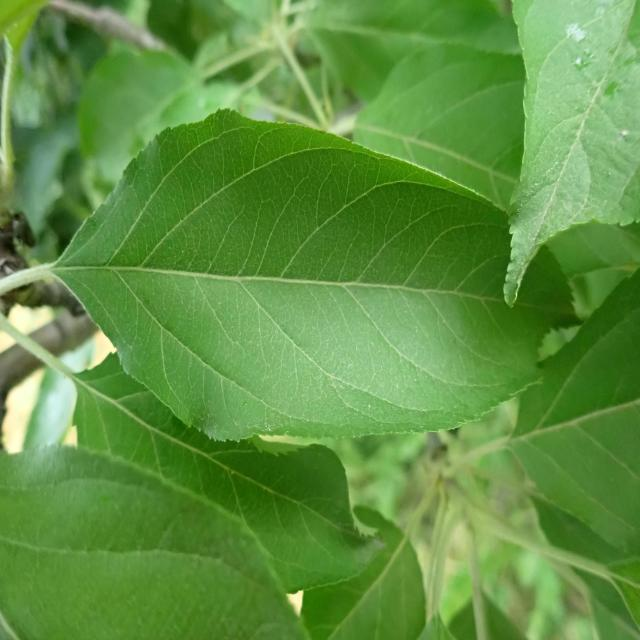healthy: (53, 106, 547, 445), (74, 351, 384, 594), (0, 442, 311, 640), (502, 0, 640, 308), (509, 270, 640, 560), (350, 42, 527, 215), (299, 504, 427, 640)
